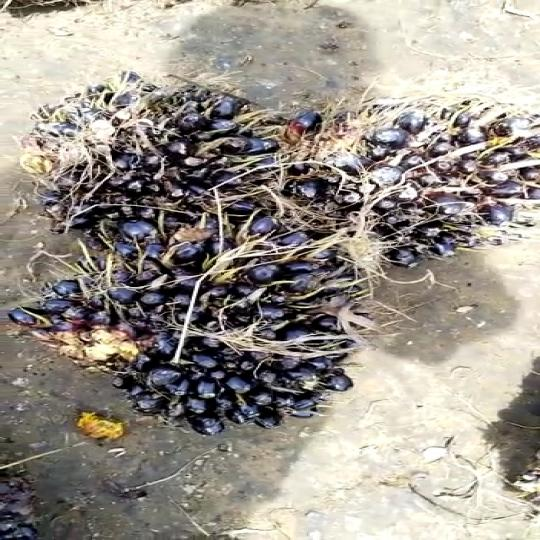mentah: (12, 253, 377, 433), (40, 89, 365, 249), (347, 79, 527, 262)
